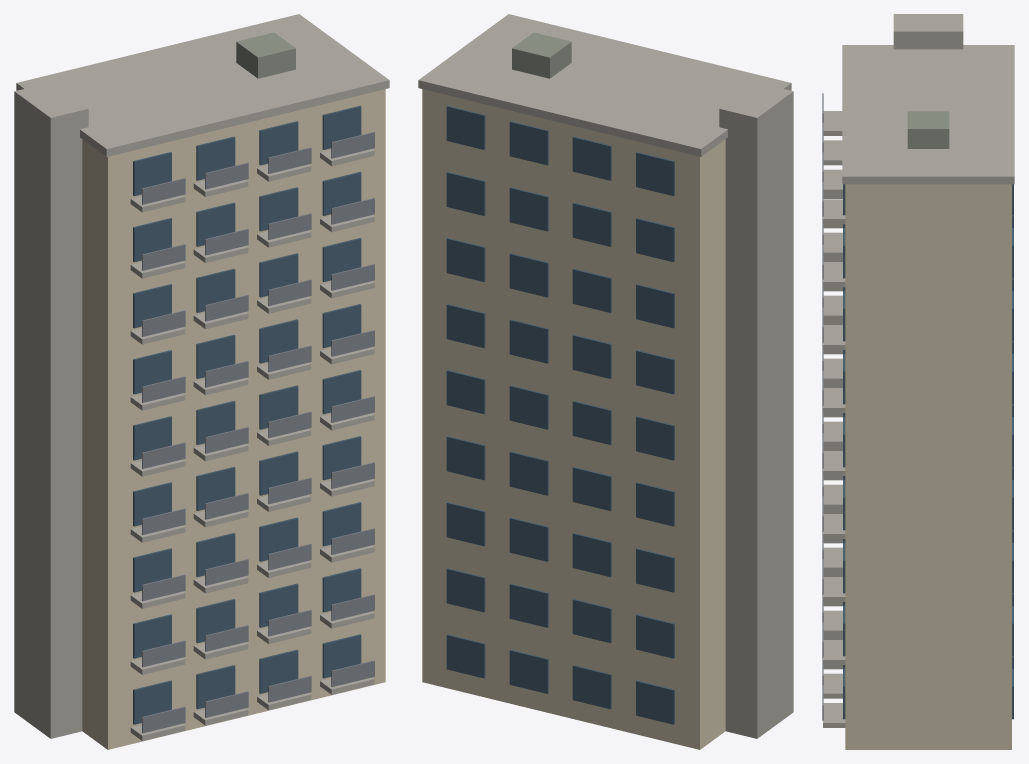
File: apartment_tall.glb
3 views of the same model, side by side, from view 1: azimuth 30°, elevation 25°; view 2: azimuth 150°, elevation 25°; view 3: azimuth 270°, elevation 25° (orthographic). The views are drawn at different scales.
Parts seen in each view (by area): view 1: apartment_tall_mesh; view 2: apartment_tall_mesh; view 3: apartment_tall_mesh.
Boxes of the visible parts, x1,y1,x2,y2 form: apartment_tall_mesh: [14, 14, 389, 749]; apartment_tall_mesh: [418, 14, 793, 749]; apartment_tall_mesh: [822, 14, 1014, 749].
Bounding box in the file's own units: 0.247 × 0.472 × 0.1385.
